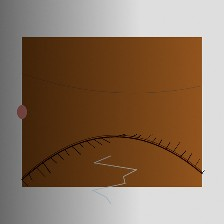foreign_body_visible: (99, 103, 116, 117)
